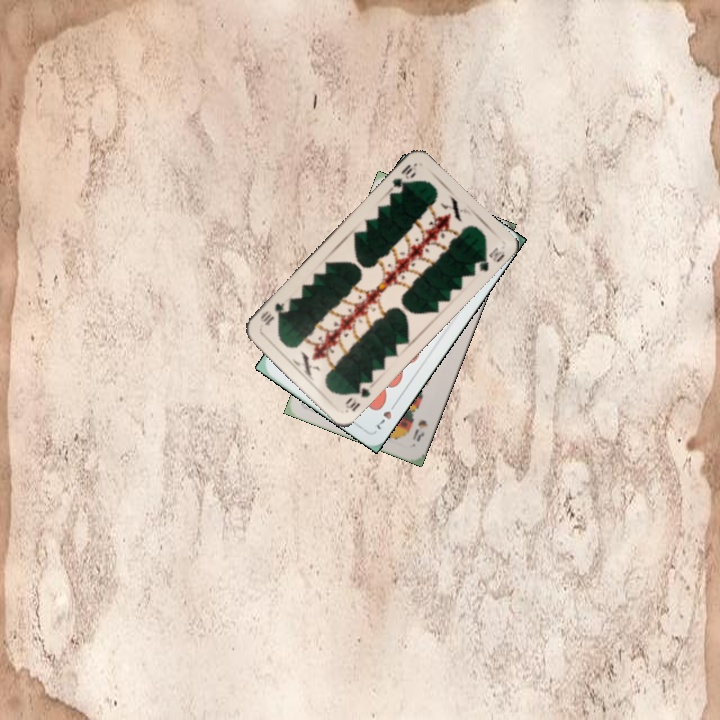G10: (385, 160, 419, 197), (341, 377, 373, 414)
H7: (370, 398, 400, 433)
S8: (408, 416, 430, 444)
